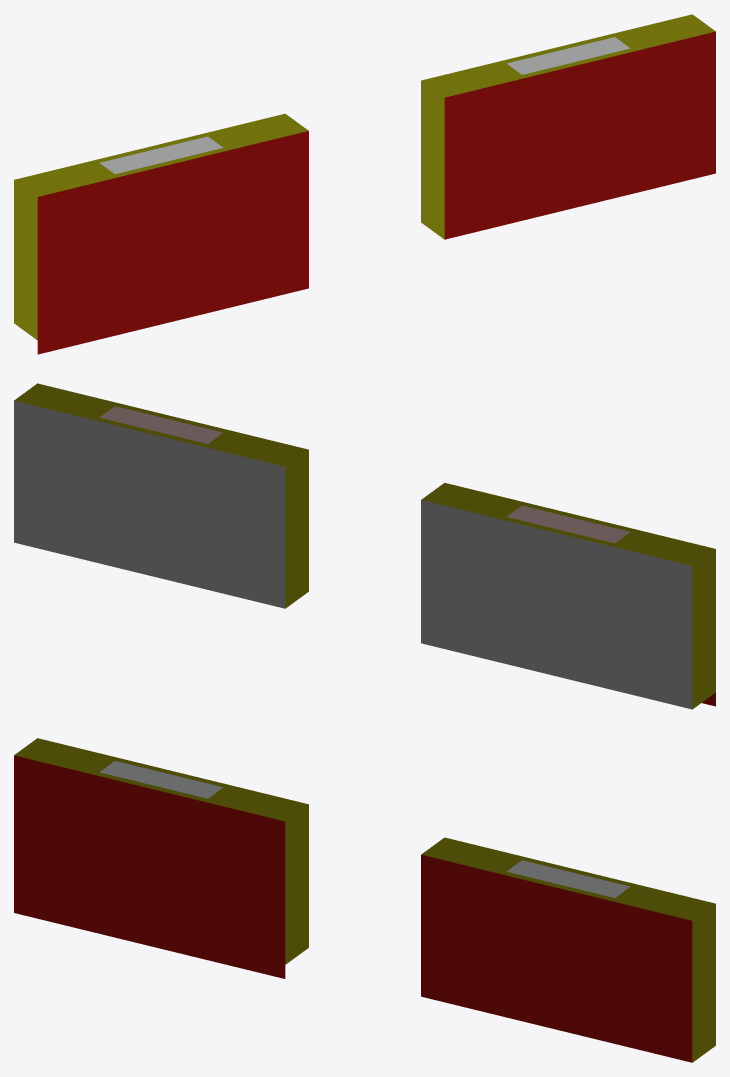
The model's file is idf.obj.
The picture shows the model from 3 angles, top to bottom: view 1: azimuth 30°, elevation 25°; view 2: azimuth 150°, elevation 25°; view 3: azimuth 330°, elevation 25°; orthographic projection.
Size of the model in its own units: 50 by 11.1 by 3.
